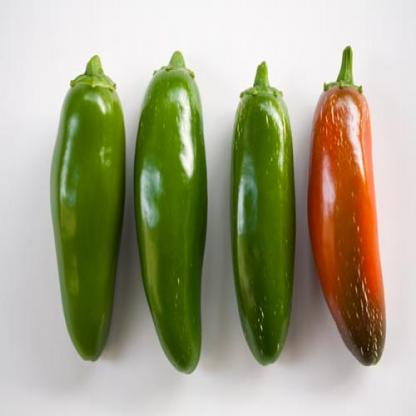--: (304, 33, 390, 372), (130, 44, 216, 376), (48, 44, 129, 370), (227, 52, 301, 369)
